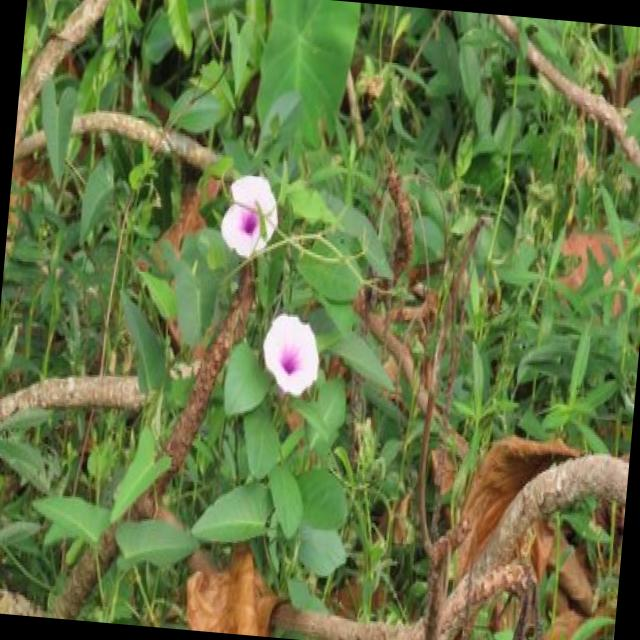ipomoea: (213, 166, 284, 267), (254, 307, 326, 403)
